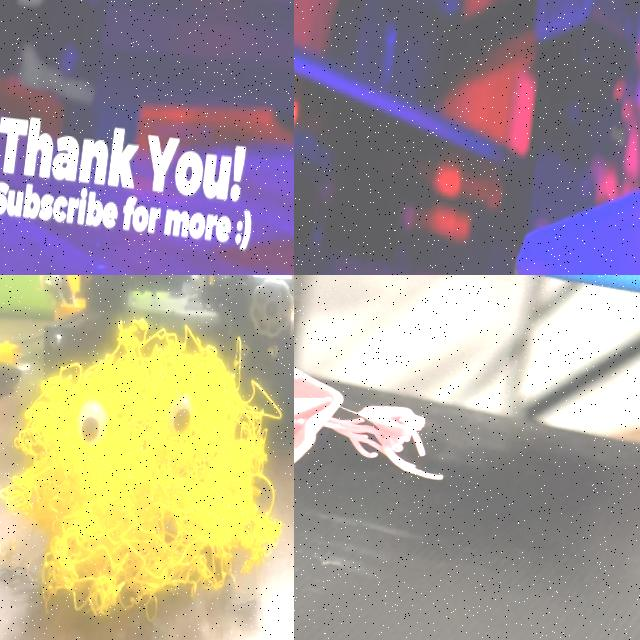spaghetti: (0, 313, 282, 627), (316, 378, 472, 502), (0, 335, 43, 381)
